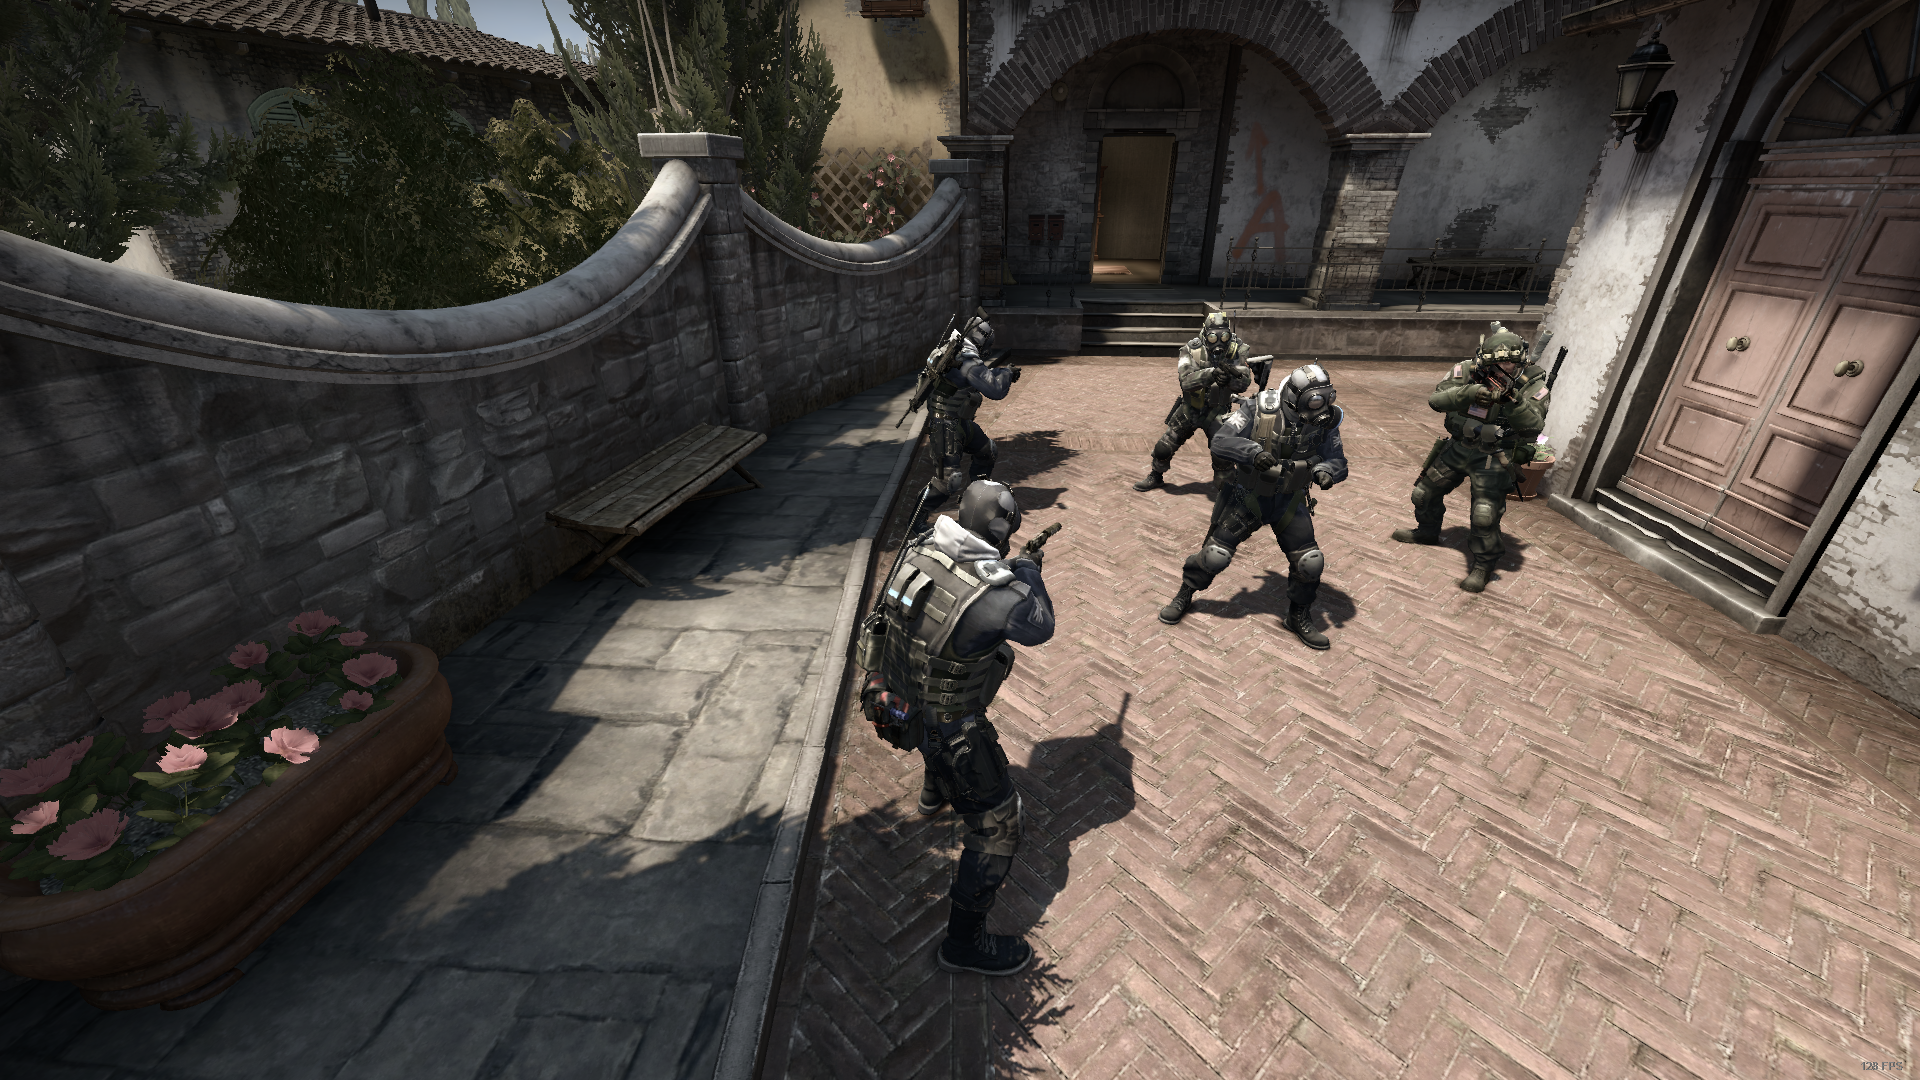ct: (861, 477, 1058, 976), (1154, 363, 1350, 655), (1137, 310, 1255, 491), (920, 313, 1013, 483)
